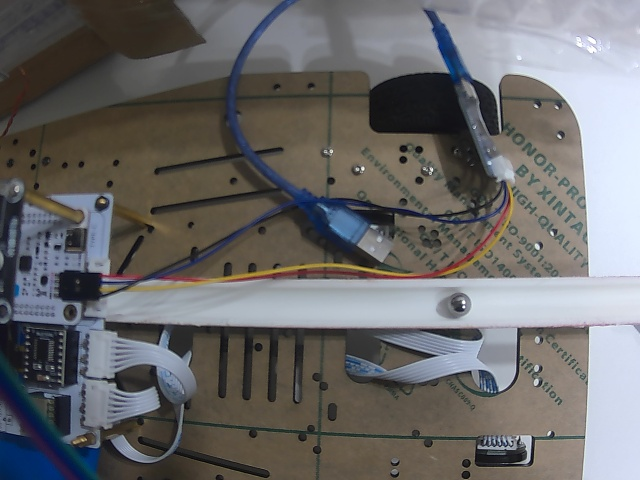steelball: (447, 293, 471, 316)
